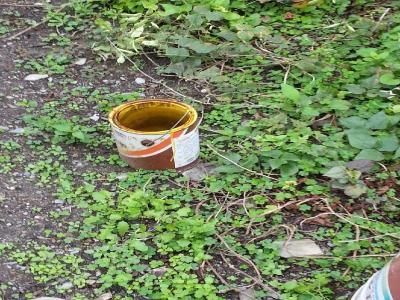bottle: (107, 98, 199, 176)
